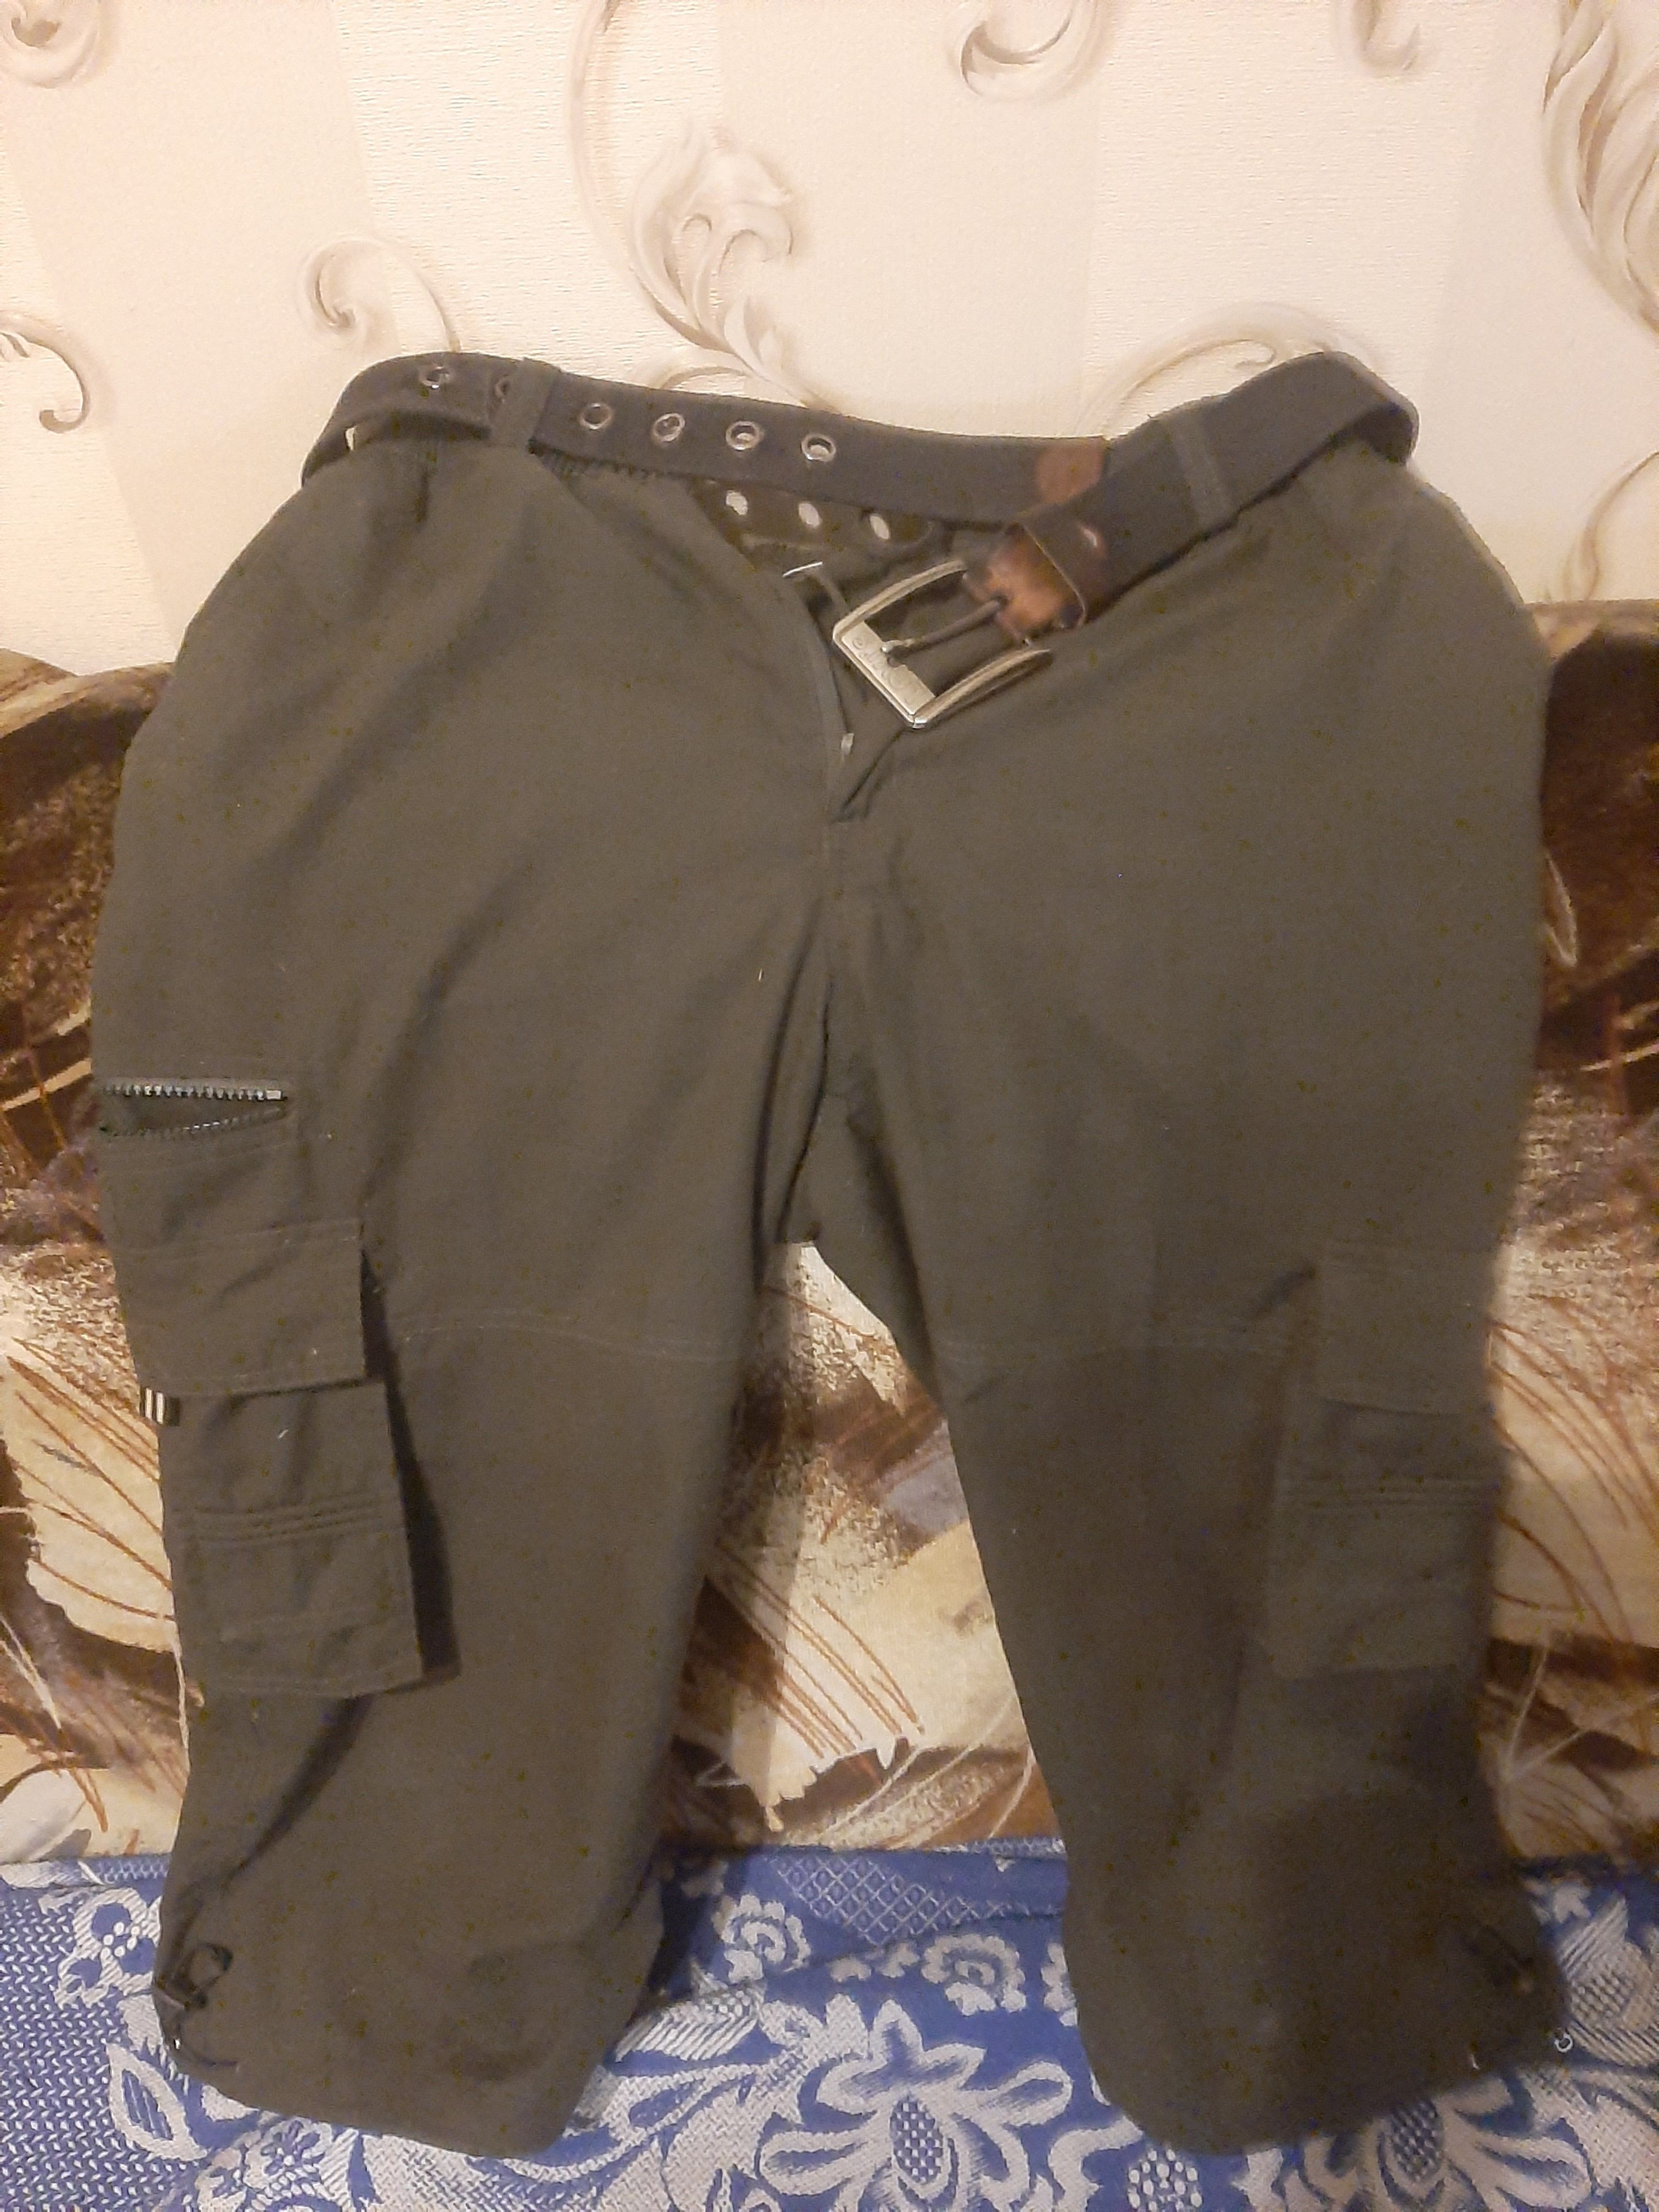clothes: (58, 327, 1577, 2135)
